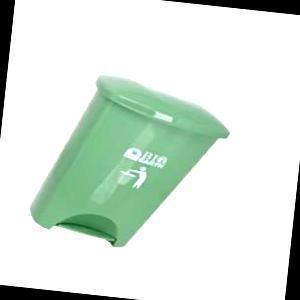Bote de Basura: (27, 71, 232, 255)
